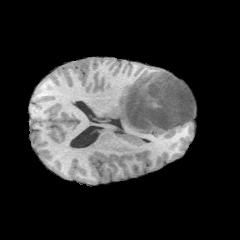glioma: (114, 73, 184, 136)
